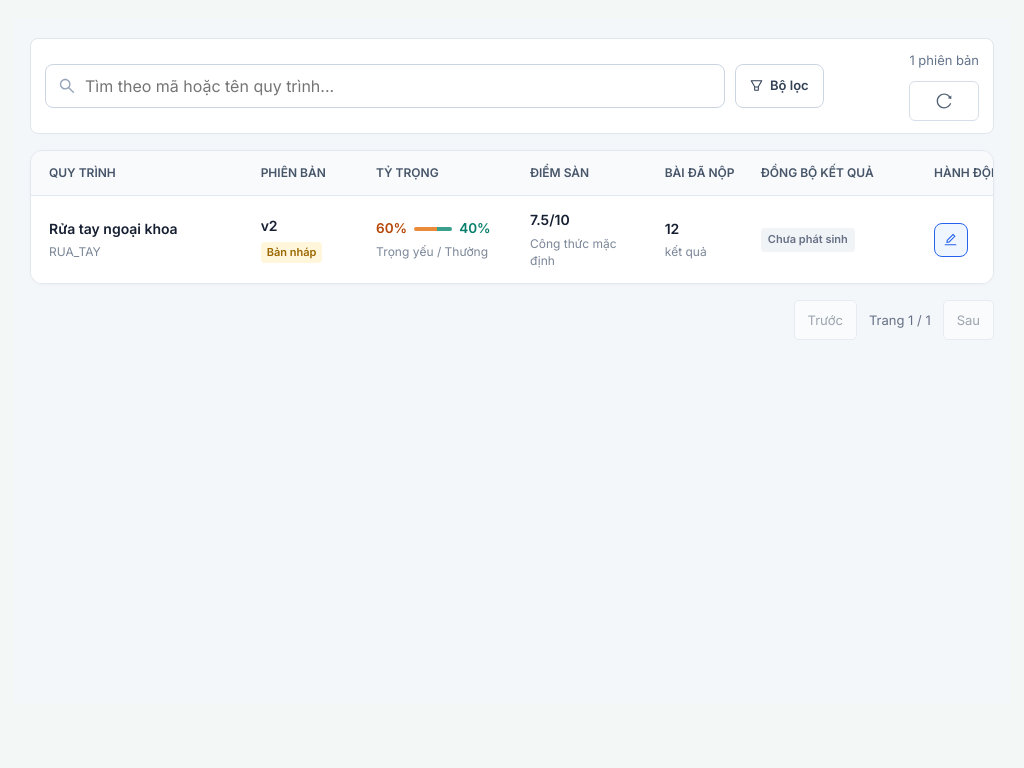
Scenario: ScoringFormulaPage - chỉnh công thức › cho sửa tỷ trọng với bản nháp và cập nhật phần còn lại
This screenshot has width=1024, height=768.
Check: the text "Rửa tay ngoại khoa" is shown, box left=49, top=220, right=178, bottom=237
Step 1. Click the button named "Chỉnh công thức Rửa tay ngoại khoa phiên bản 2" → [951, 240], box left=934, top=223, right=968, bottom=257
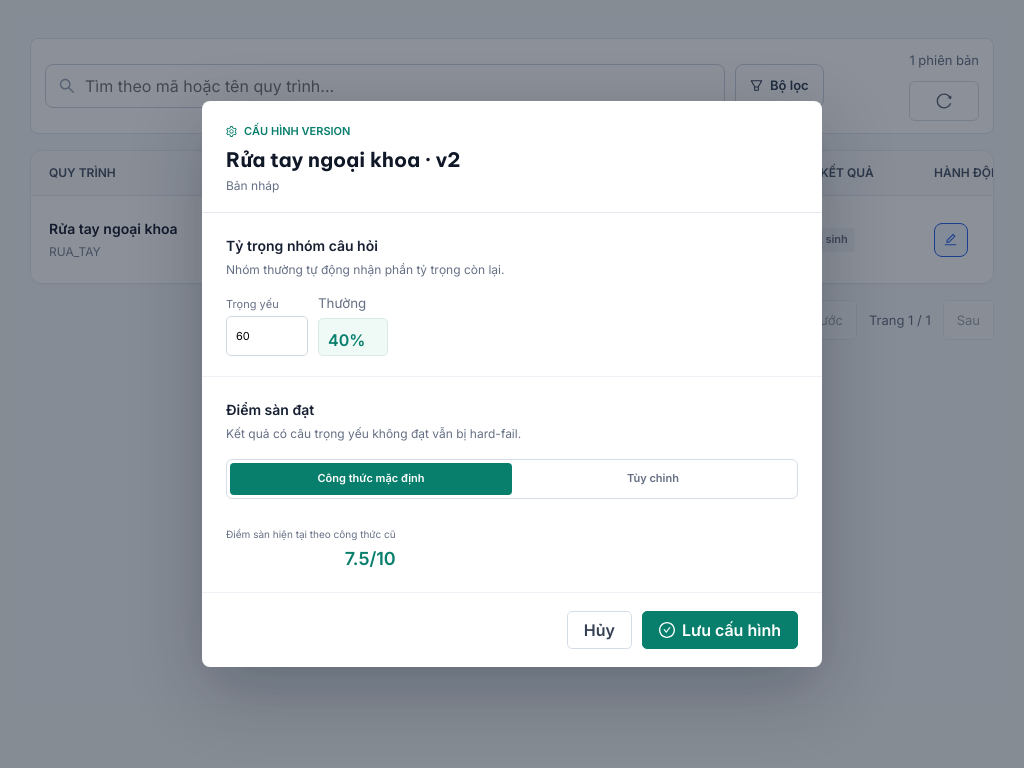
Step 2. Replace the text in the number field with "70" → [267, 336], box left=226, top=316, right=308, bottom=356
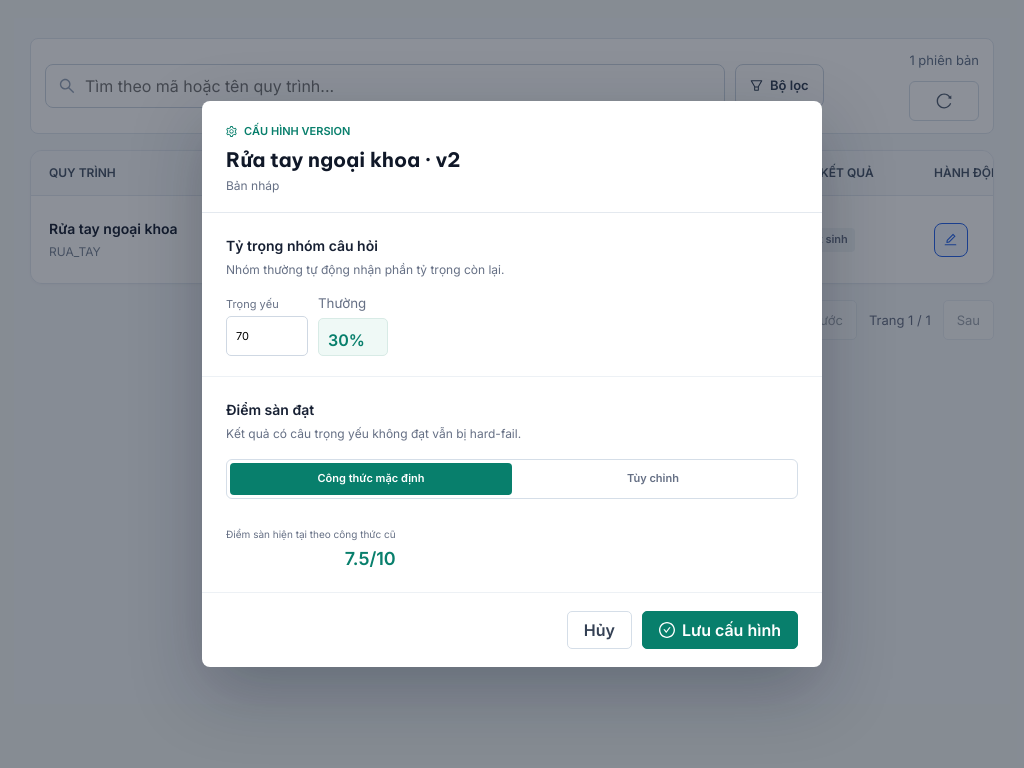
Check: the text "30%" is shown, box left=318, top=318, right=388, bottom=356
